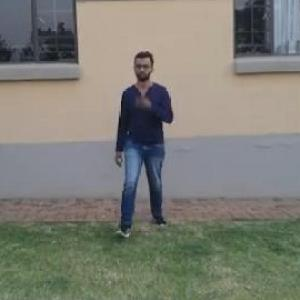follow: (116, 49, 171, 229)
